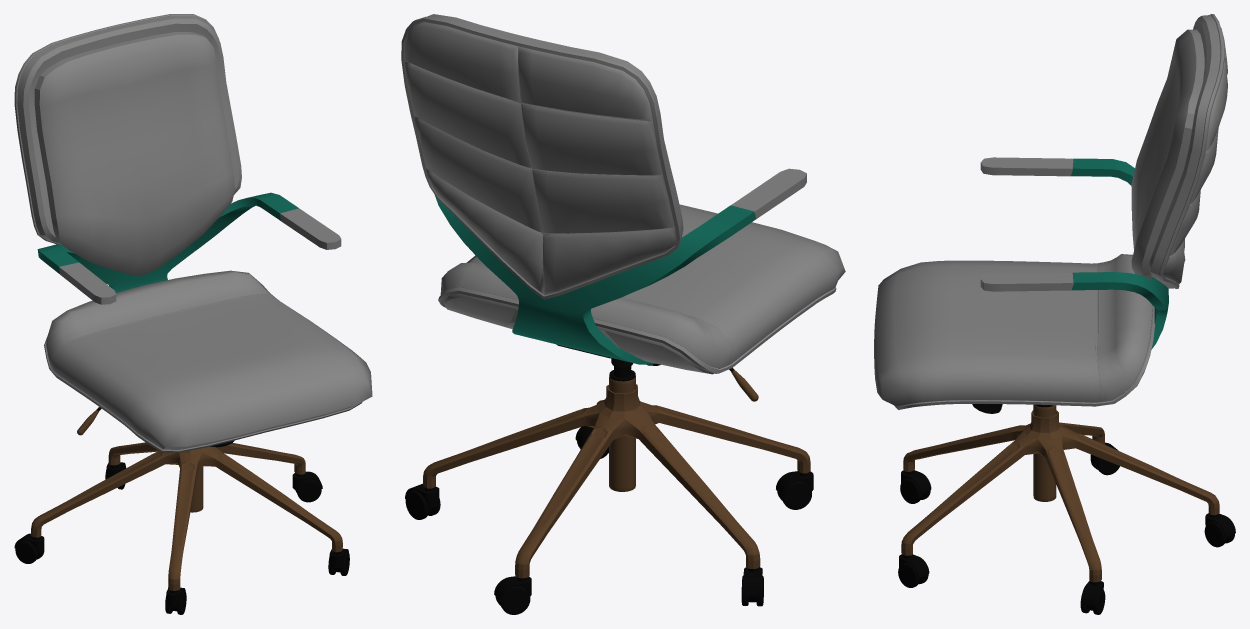
File: cadeira-raia.fbx
The picture shows the model from 3 angles, left to right: view 1: azimuth 30°, elevation 25°; view 2: azimuth 150°, elevation 25°; view 3: azimuth 270°, elevation 25°; orthographic projection. The views are drawn at different scales.
Visible parts, largest first — view 1: Plane00s002, Modelagem_Cadeira_Raia001, Box005, Plane015, Plane014, Box006, Box007, 54957537__4876P009, 54957537__4876P006, 54957537__4876P005, 54957537__4876P008; view 2: Box005, Plane00s002, Plane015, Plane014, Box007, Line009, 54957537__4876P005, 54957537__4876P007, 54957537__4876P009, 54957537__4876P006; view 3: Plane00s002, Plane015, Modelagem_Cadeira_Raia001, Box005, Plane014, Box007, Box006, Line009, 54957537__4876P007, 54957537__4876P008, 54957537__4876P005, 54957537__4876P009.
Boxes of the visible parts, x1=… form: Plane00s002: x1=44, y1=270, x2=372, y2=452; Modelagem_Cadeira_Raia001: x1=34, y1=32, x2=234, y2=275; Box005: x1=14, y1=14, x2=241, y2=244; Plane015: x1=31, y1=442, x2=342, y2=590; Plane014: x1=37, y1=192, x2=298, y2=292; Box006: x1=280, y1=208, x2=341, y2=249; Box007: x1=59, y1=262, x2=116, y2=304; 54957537__4876P009: x1=292, y1=471, x2=322, y2=502; 54957537__4876P006: x1=14, y1=533, x2=44, y2=563; 54957537__4876P005: x1=165, y1=587, x2=186, y2=614; 54957537__4876P008: x1=328, y1=548, x2=349, y2=575; Box005: x1=401, y1=14, x2=683, y2=299; Plane00s002: x1=438, y1=204, x2=845, y2=374; Plane015: x1=423, y1=384, x2=810, y2=578; Plane014: x1=435, y1=195, x2=755, y2=364; Box007: x1=731, y1=168, x2=806, y2=218; Line009: x1=609, y1=435, x2=635, y2=491; 54957537__4876P005: x1=776, y1=471, x2=813, y2=509; 54957537__4876P007: x1=494, y1=576, x2=531, y2=614; 54957537__4876P009: x1=405, y1=483, x2=440, y2=519; 54957537__4876P006: x1=741, y1=567, x2=763, y2=606; Plane00s002: x1=874, y1=254, x2=1154, y2=409; Plane015: x1=901, y1=410, x2=1219, y2=582; Modelagem_Cadeira_Raia001: x1=1131, y1=29, x2=1204, y2=279; Box005: x1=1148, y1=14, x2=1227, y2=288; Plane014: x1=1071, y1=158, x2=1168, y2=349; Box007: x1=980, y1=157, x2=1073, y2=176; Box006: x1=980, y1=272, x2=1073, y2=291; Line009: x1=1033, y1=453, x2=1056, y2=501; 54957537__4876P007: x1=1204, y1=513, x2=1235, y2=547; 54957537__4876P008: x1=898, y1=554, x2=929, y2=587; 54957537__4876P005: x1=900, y1=470, x2=931, y2=503; 54957537__4876P009: x1=1080, y1=581, x2=1105, y2=614.
Size of the model in its own units: 26.46 by 39.38 by 26.37.
